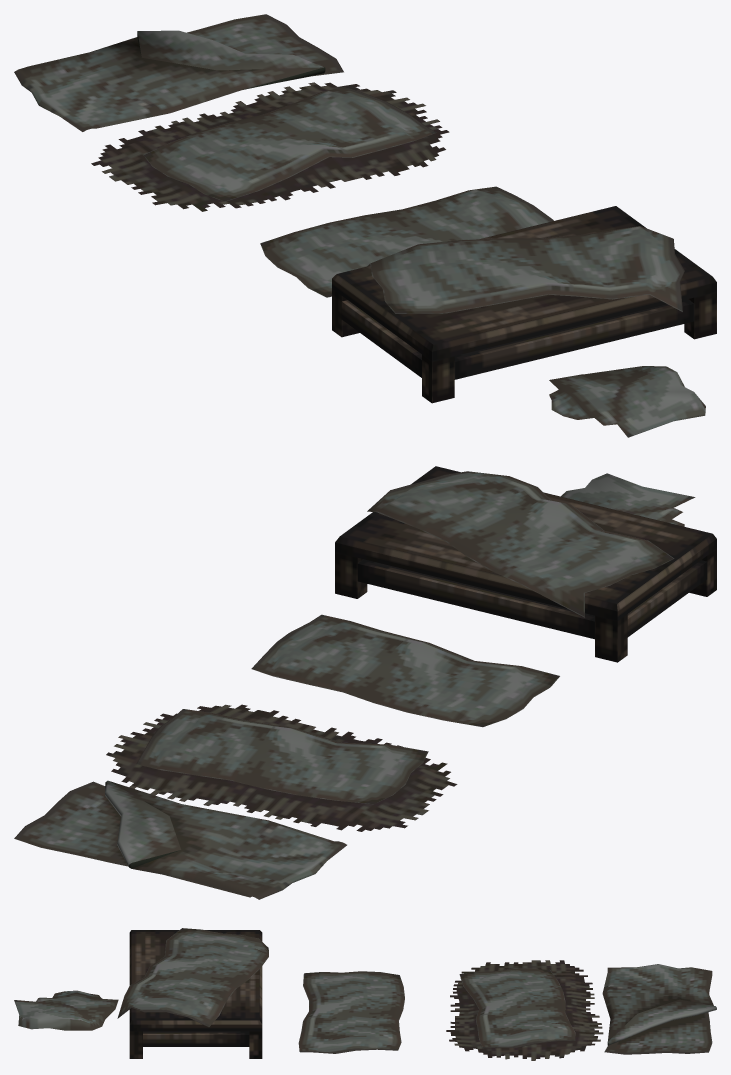
File: EnvObjMD_Bed_Prisom_A_Wood_A.FBX
3 views of the same model, one above another, from view 1: azimuth 30°, elevation 25°; view 2: azimuth 150°, elevation 25°; view 3: azimuth 270°, elevation 25° (orthographic). The views are drawn at different scales.
Visible parts, largest first — view 1: EnvObjMD_Bed_Prisom_A_Wood_A, EnvObjMD_Bed_Prisom_A_Straw_A, EnvObjMD_Bed_Prisom_A_Blanket_A, EnvObjMD_Bed_Prisom_A_Blanket_B, EnvObjMD_Bed_Prisom_A_Blanket_C; view 2: EnvObjMD_Bed_Prisom_A_Wood_A, EnvObjMD_Bed_Prisom_A_Straw_A, EnvObjMD_Bed_Prisom_A_Blanket_A, EnvObjMD_Bed_Prisom_A_Blanket_B, EnvObjMD_Bed_Prisom_A_Blanket_C; view 3: EnvObjMD_Bed_Prisom_A_Wood_A, EnvObjMD_Bed_Prisom_A_Straw_A, EnvObjMD_Bed_Prisom_A_Blanket_A, EnvObjMD_Bed_Prisom_A_Blanket_B, EnvObjMD_Bed_Prisom_A_Blanket_C.
Part boxes in pixels (box(x1,y1,x2,y2)): EnvObjMD_Bed_Prisom_A_Wood_A: box(332, 206, 716, 403); EnvObjMD_Bed_Prisom_A_Straw_A: box(91, 82, 449, 211); EnvObjMD_Bed_Prisom_A_Blanket_A: box(14, 14, 343, 131); EnvObjMD_Bed_Prisom_A_Blanket_B: box(260, 186, 553, 297); EnvObjMD_Bed_Prisom_A_Blanket_C: box(549, 366, 705, 437); EnvObjMD_Bed_Prisom_A_Wood_A: box(335, 466, 716, 662); EnvObjMD_Bed_Prisom_A_Straw_A: box(106, 704, 457, 831); EnvObjMD_Bed_Prisom_A_Blanket_A: box(14, 780, 346, 899); EnvObjMD_Bed_Prisom_A_Blanket_B: box(251, 614, 559, 727); EnvObjMD_Bed_Prisom_A_Blanket_C: box(561, 473, 695, 526); EnvObjMD_Bed_Prisom_A_Wood_A: box(117, 928, 268, 1058); EnvObjMD_Bed_Prisom_A_Straw_A: box(446, 960, 603, 1060); EnvObjMD_Bed_Prisom_A_Blanket_A: box(602, 964, 716, 1054); EnvObjMD_Bed_Prisom_A_Blanket_B: box(298, 971, 404, 1053); EnvObjMD_Bed_Prisom_A_Blanket_C: box(14, 990, 118, 1030).
Bounding box in the file's own units: 273 × 58.98 × 806.
Materials: 1 (1 with a texture image).
